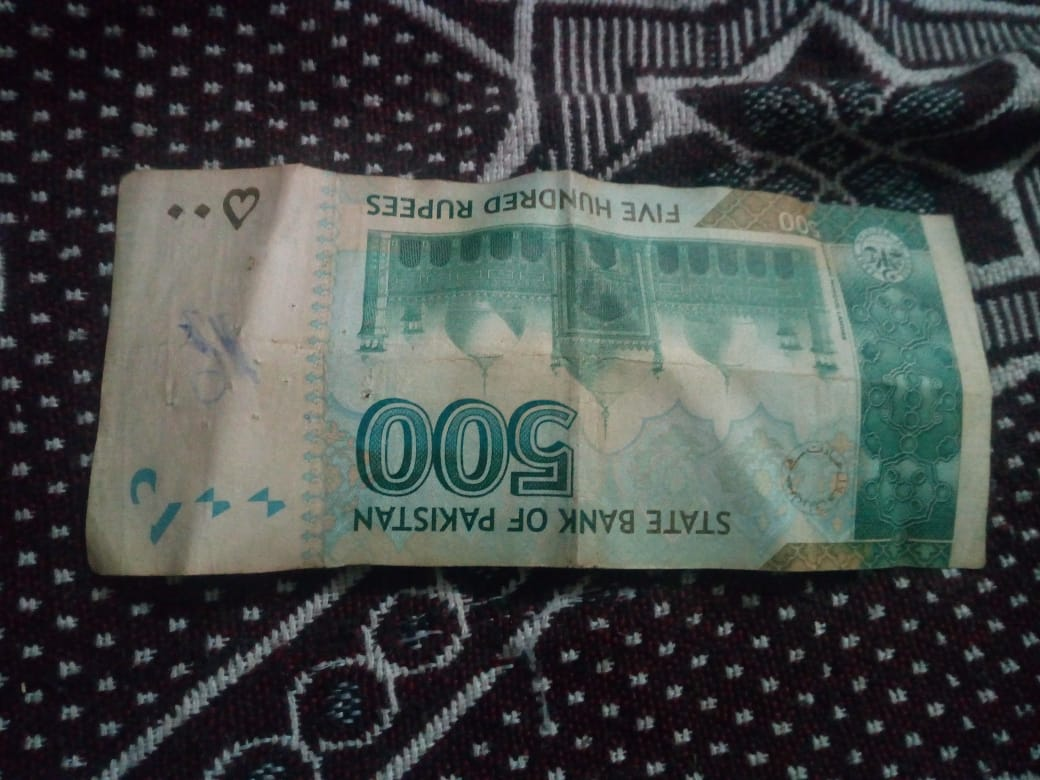500 rupee: (98, 154, 1006, 596)
